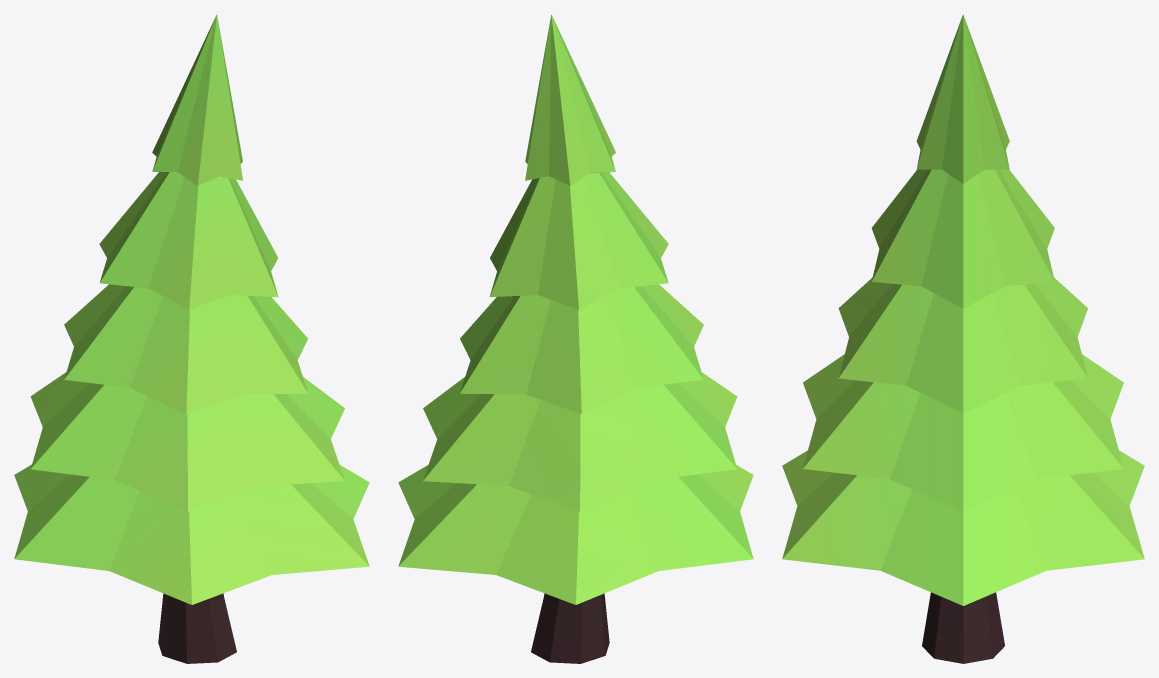
Rendered from tree9.fbx.
3 views of the same model, side by side, from view 1: azimuth 30°, elevation 25°; view 2: azimuth 150°, elevation 25°; view 3: azimuth 270°, elevation 25° (orthographic). The views are drawn at different scales.
Parts seen in each view (by area): view 1: Cylinder.008; view 2: Cylinder.008; view 3: Cylinder.008.
Boxes of the visible parts, <box> form: Cylinder.008: <box>14,14,369,663</box>; Cylinder.008: <box>398,14,753,663</box>; Cylinder.008: <box>782,14,1144,663</box>.
Size of the model in its own units: 540 by 914 by 468.
